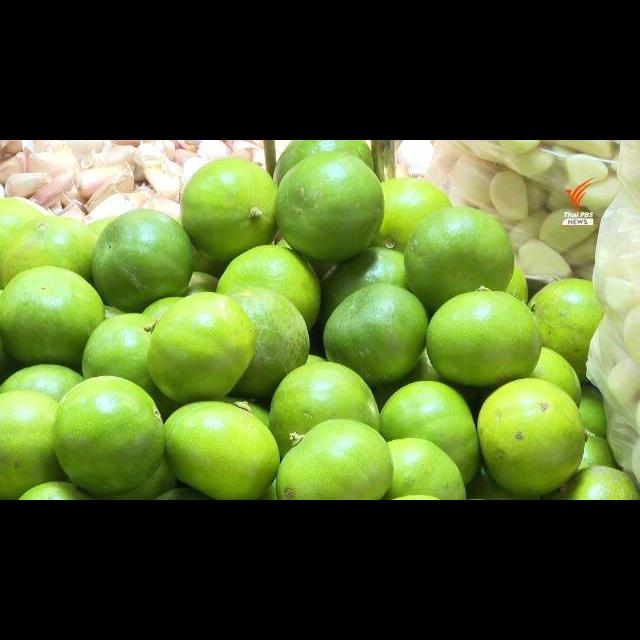lime: (473, 376, 597, 499), (140, 289, 262, 409), (48, 374, 168, 496), (271, 153, 386, 270), (157, 394, 283, 497), (425, 283, 545, 388), (399, 201, 520, 305), (377, 377, 485, 492), (319, 276, 433, 383), (0, 262, 112, 368), (265, 358, 380, 461), (215, 282, 309, 405), (91, 205, 196, 314), (178, 155, 281, 259), (0, 208, 106, 305), (526, 274, 609, 392), (275, 417, 392, 500), (68, 307, 187, 388), (213, 244, 325, 326), (0, 385, 72, 500), (365, 175, 457, 257), (373, 435, 475, 500)
